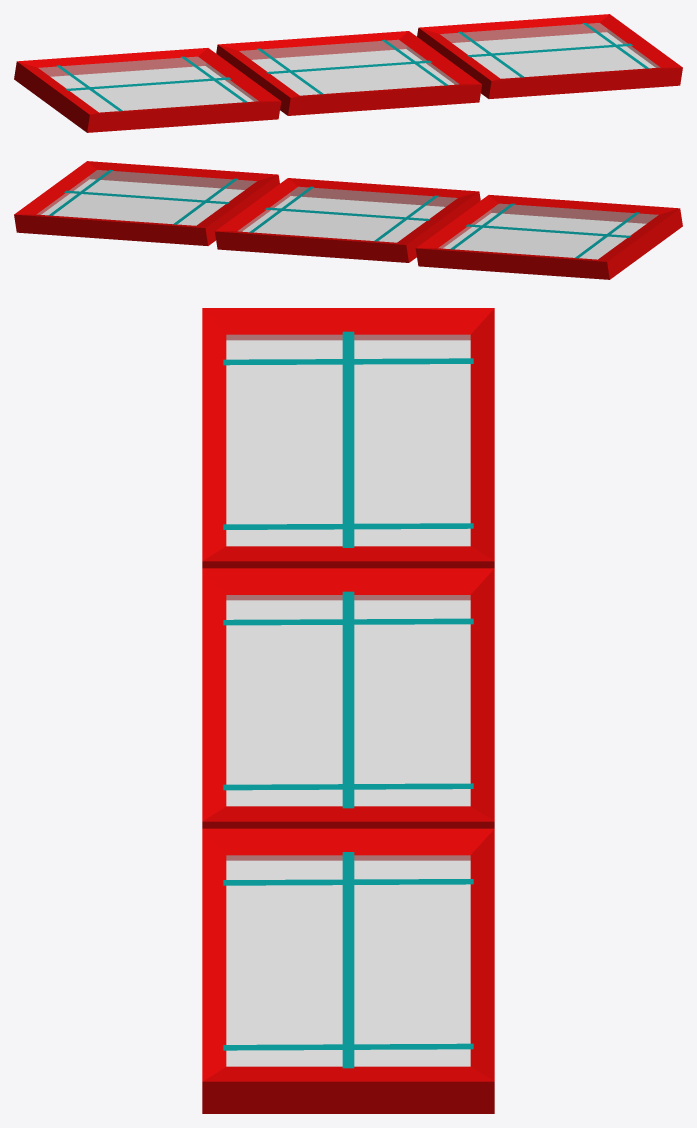
Rendered from Panel_2.fbx.
The picture shows the model from 3 angles, top to bottom: view 1: azimuth 30°, elevation 25°; view 2: azimuth 150°, elevation 25°; view 3: azimuth 270°, elevation 25°; orthographic projection. The views are drawn at different scales.
Visible parts, largest first — view 1: pCube6; view 2: pCube6; view 3: pCube6.
Part boxes in pixels (bbox=[...]): pCube6: bbox=[14, 14, 682, 132]; pCube6: bbox=[14, 161, 682, 279]; pCube6: bbox=[202, 308, 494, 1113].
Bounding box in the file's own units: 50.07 × 9.22 × 10.65.
